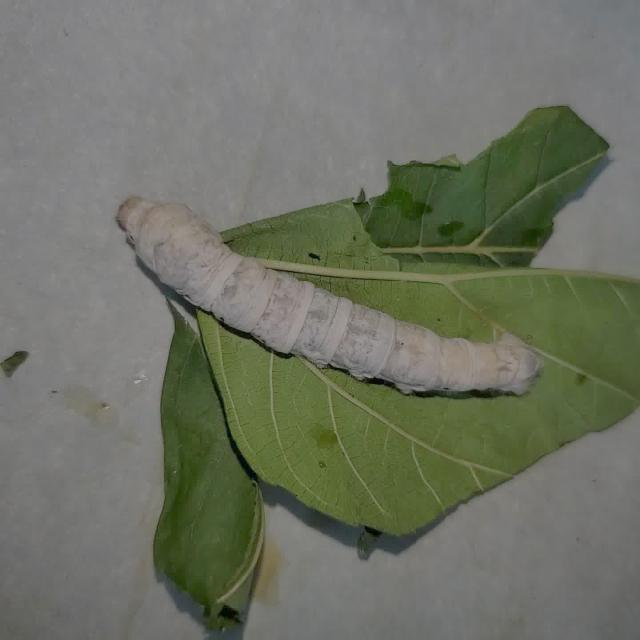Grasserie: (110, 179, 550, 412)
